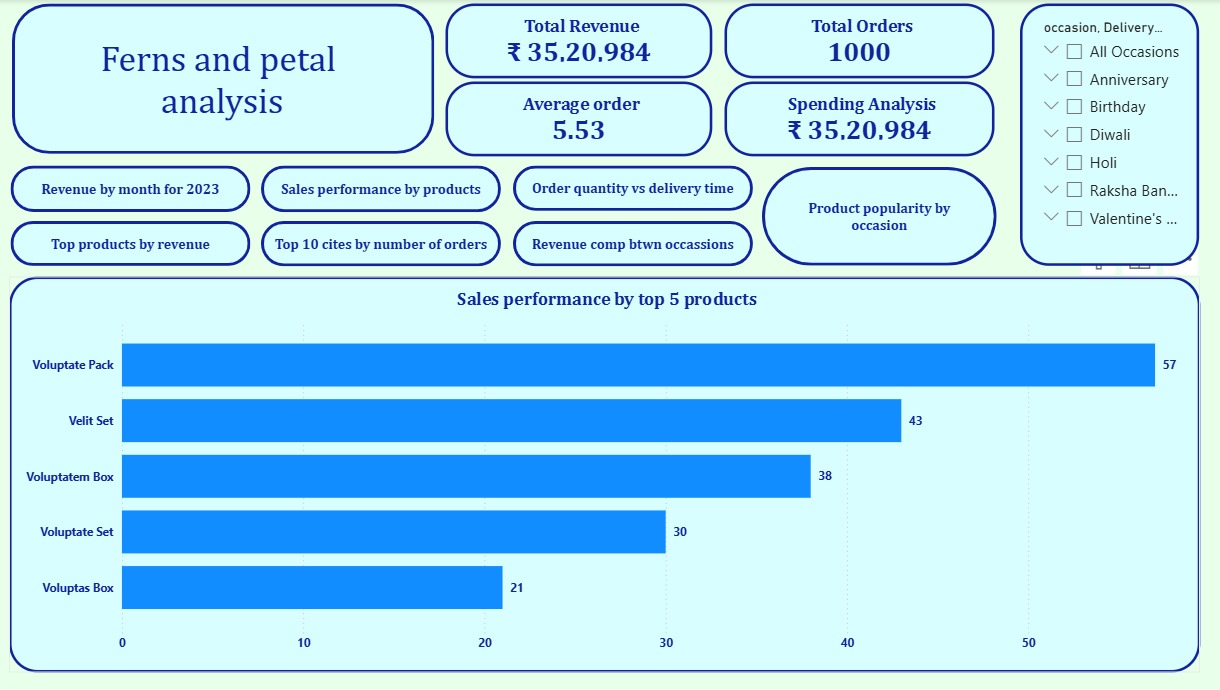

Layout of this report page (visuals, bound fields, positions):
{"tool":"powerbi","page":{"name":"Page 1","canvas":[1280,720],"ordinal":0},"visuals":[{"type":"actionButton","title":"B - Revenue by 2023 month","box":[16.7,173.6,250,48.5],"z":1000,"group":"g1"},{"type":"actionButton","title":"B-Top Product by revenue","box":[16.7,231.4,250,46.9],"z":2000,"group":"g1"},{"type":"barChart","title":"Sales performance by top 5 products","fields":{"Category":["fernpet.Product_Name"],"Y":["Sum(fernpet.Quantity)"]},"box":[15.6,289.2,1241,412.6],"z":2000},{"type":"actionButton","title":"B - Sales performance by products","box":[277.1,173.9,250,48.6],"z":3000,"group":"g1"},{"type":"actionButton","title":"B - Top 10 cities by number of orders","box":[277.1,230.8,250,47.2],"z":4000,"group":"g1"},{"type":"actionButton","title":"B - Order Quantity vs delivery time","box":[539.6,173.9,250,47.2],"z":5000,"group":"g1"},{"type":"actionButton","title":"B - Revenue comparison between occassion","box":[539.6,230.8,250,47.2],"z":6000,"group":"g1"},{"type":"actionButton","title":"B - product popularity by occassion","box":[799.3,175.3,244.4,102.8],"z":6007,"group":"g1"},{"type":"slicer","fields":{"Values":["fernpet.occasion","fernpet.Delivery_Date"]},"box":[1068.3,5,186.7,273.3],"z":7000},{"type":"group","id":"g1","title":"Group 1","box":[16.7,173.6,1026.4,104.2],"z":8000},{"type":"shape","box":[18.3,5,440,156.7],"z":9000},{"type":"textbox","box":[33.3,35,410,96.7],"z":10000},{"type":"card","title":"Total Revenue","fields":{"Values":["Card dax.Total Revenue"]},"box":[470.5,4.7,278.2,78.1],"z":10001},{"type":"card","title":"Total Orders","fields":{"Values":["Card dax.Total Orders"]},"box":[761.2,4.7,281.3,78.1],"z":10002},{"type":"card","title":"Average order","fields":{"Values":["Card dax.Average delivery time"]},"box":[471.1,86.6,278.2,78.1],"z":10003},{"type":"card","title":"Spending Analysis","fields":{"Values":["Card dax.Customer spending analysis"]},"box":[761.8,86.6,281.3,78.1],"z":10004}]}

Visuals, with their boxes in screenshot pixels (x1, y1, x2, y2), scaled from the page's 1280x720 canvas onto the 1220x690 screenshot:
"B - Revenue by 2023 month" actionButton: l=16, t=166, r=254, b=213
"B-Top Product by revenue" actionButton: l=16, t=222, r=254, b=267
"Sales performance by top 5 products" barChart: l=15, t=277, r=1198, b=673
"B - Sales performance by products" actionButton: l=264, t=167, r=502, b=213
"B - Top 10 cities by number of orders" actionButton: l=264, t=221, r=502, b=266
"B - Order Quantity vs delivery time" actionButton: l=514, t=167, r=753, b=212
"B - Revenue comparison between occassion" actionButton: l=514, t=221, r=753, b=266
"B - product popularity by occassion" actionButton: l=762, t=168, r=995, b=267
slicer - fernpet.occasion x fernpet.Delivery_Date: l=1018, t=5, r=1196, b=267
"Group 1" group: l=16, t=166, r=994, b=266
shape: l=17, t=5, r=437, b=155
textbox: l=32, t=34, r=423, b=126
"Total Revenue" card: l=448, t=5, r=714, b=79
"Total Orders" card: l=726, t=5, r=994, b=79
"Average order" card: l=449, t=83, r=714, b=158
"Spending Analysis" card: l=726, t=83, r=994, b=158
